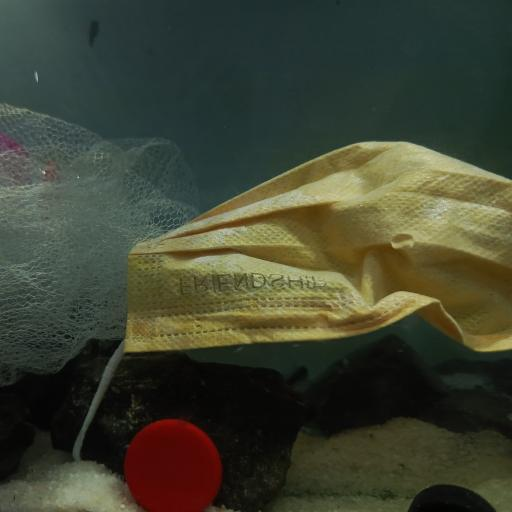bottle_cap: (123, 412, 221, 512)
mask: (122, 136, 512, 356)
net: (0, 104, 209, 368)
plastic_bottle: (2, 135, 61, 187)
